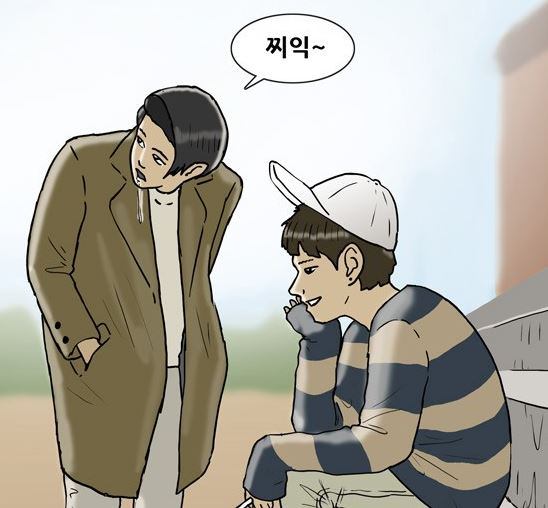hat: (266, 155, 402, 256)
